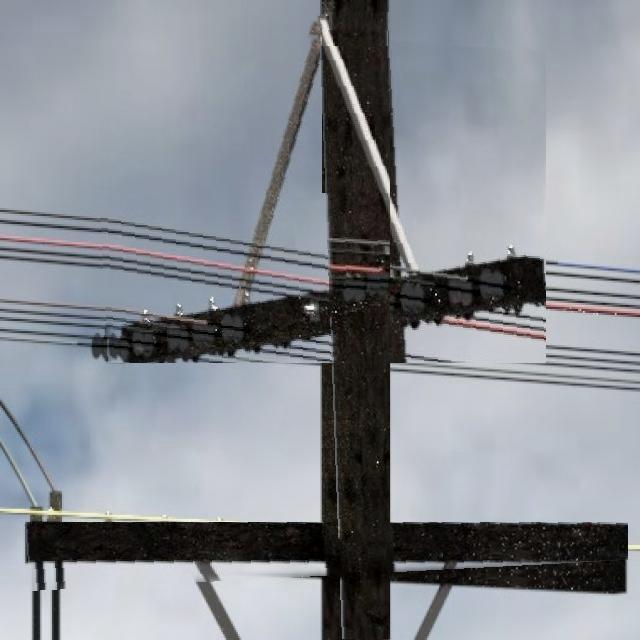crossarm: (104, 32, 546, 363), (27, 522, 628, 568)
pole: (322, 47, 390, 640), (322, 0, 389, 193)
